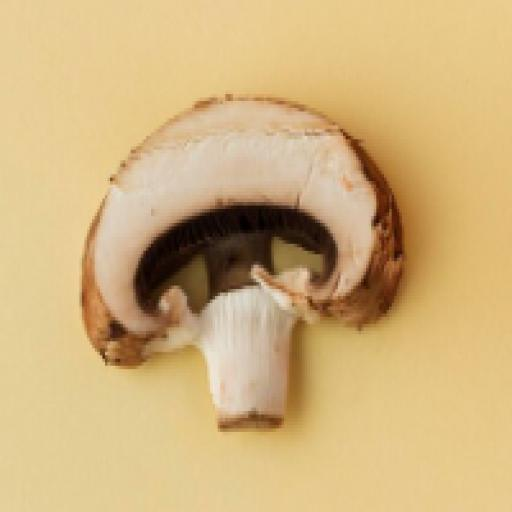mushroom: (76, 84, 411, 444)
